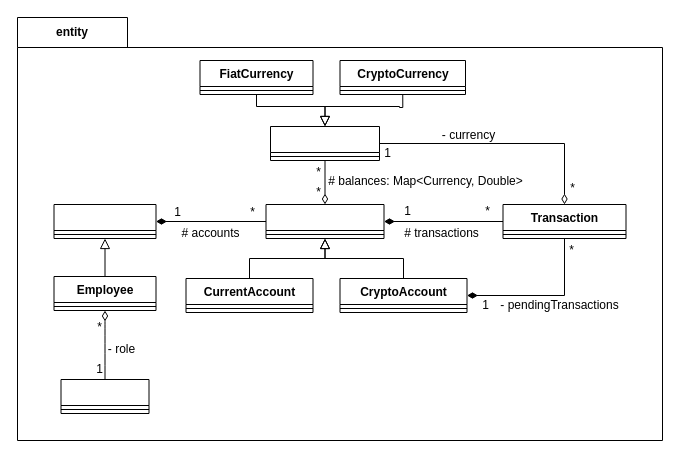
Image size: 680x458. Some labels were removed from this diagram. The centre of each missing label's shape, as x and y in pixels:
Account: point 324,221
Currency: point 325,143
Role: point 104,396
User: point 104,221
